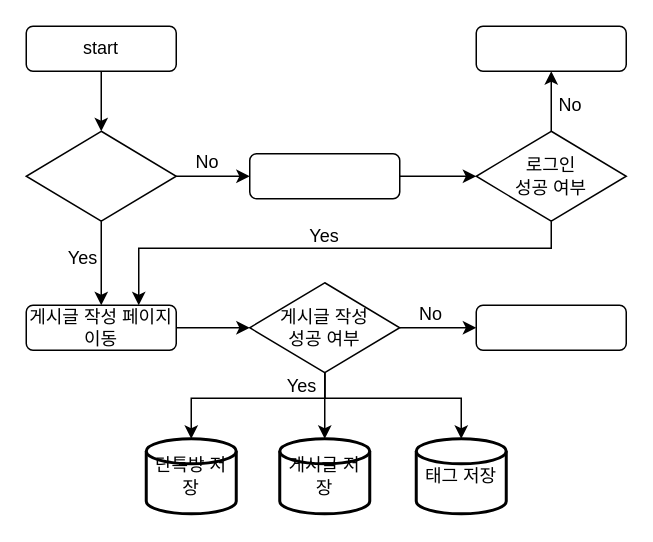
This 653x542 diagram has some shape labels left out. Here are the shapes that lost their labels. From the top down, the centre of each, then its label:
(x=550, y=48): 이메일 또는 비밀번호 확인
(x=100, y=175): 인증된 회원 인가요?
(x=324, y=175): 로그인 페이지 이동
(x=550, y=327): 작성 내용 확인
